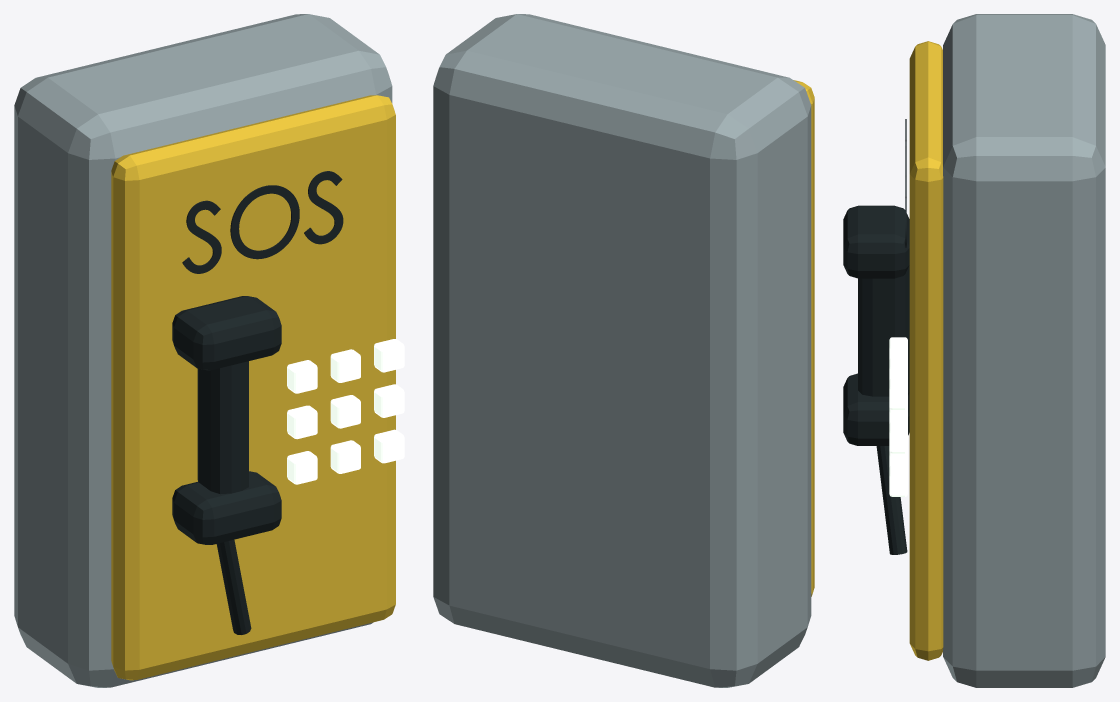
File: emergency-telephone.glb
The picture shows the model from 3 angles, left to right: view 1: azimuth 30°, elevation 25°; view 2: azimuth 150°, elevation 25°; view 3: azimuth 270°, elevation 25°; orthographic projection. The views are drawn at different scales.
Visible parts, largest first — view 1: Yellow telephone cover, Emergency telephone body, SOS, Dial key; view 2: Emergency telephone body, Yellow telephone cover; view 3: Emergency telephone body, Yellow telephone cover, SOS, Dial key.
Boxes of the visible parts, x1,y1,x2,y2 form: Yellow telephone cover: (111,95,395,680); Emergency telephone body: (14,14,392,687); SOS: (172,171,343,634); Dial key: (287,339,404,484); Emergency telephone body: (433,14,811,687); Yellow telephone cover: (793,80,814,596); Emergency telephone body: (943,14,1105,687); Yellow telephone cover: (909,41,943,660); SOS: (843,119,909,554); Dial key: (889,337,907,496).
Bounding box in the file's own units: 0.48 × 0.82 × 0.355.
